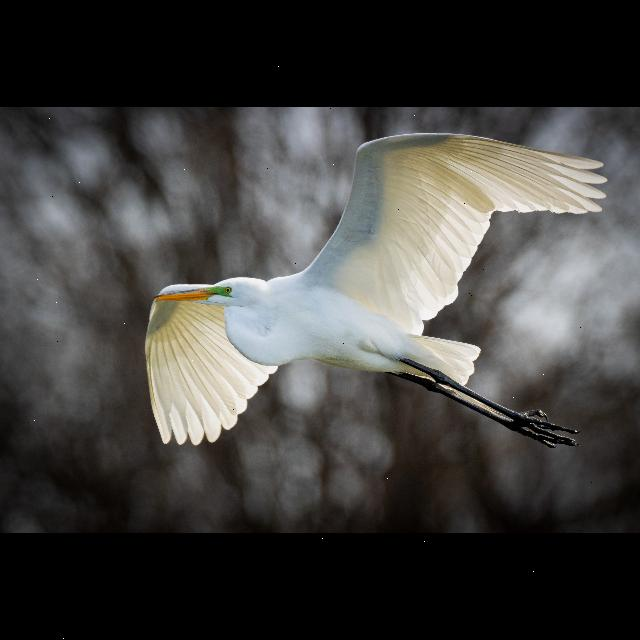egret: (146, 130, 606, 446)
